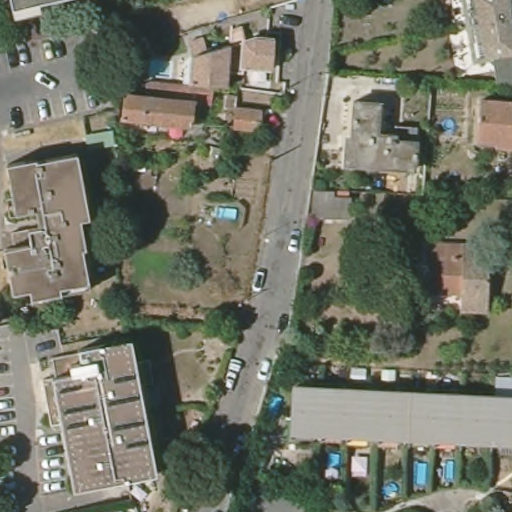pool: (207, 202, 244, 224), (265, 387, 286, 417), (148, 57, 176, 79), (414, 456, 430, 487), (322, 448, 343, 471), (442, 454, 457, 483), (381, 478, 399, 499), (440, 114, 458, 133)
